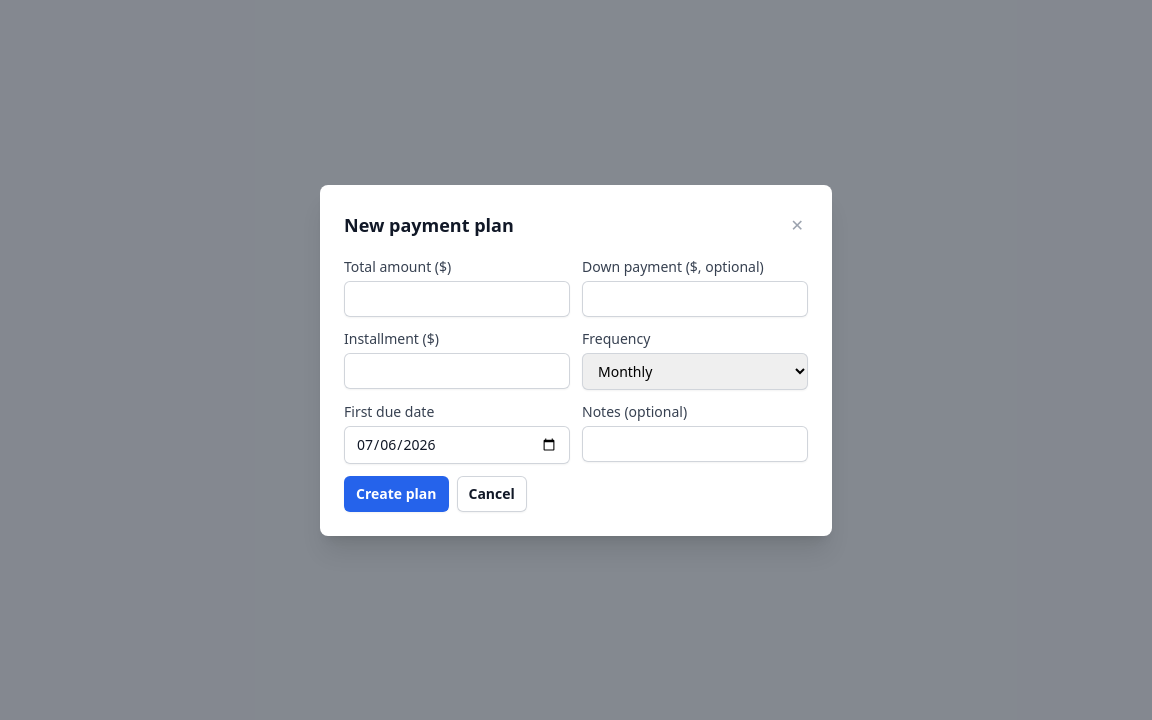
Test: PaymentPlanModal › shows a computed installment-count preview as amounts are entered
This screenshot has width=1152, height=720.
Type "1200" into the number field labelled "Total amount ($)" at (457, 298), box [344,280,570,316]
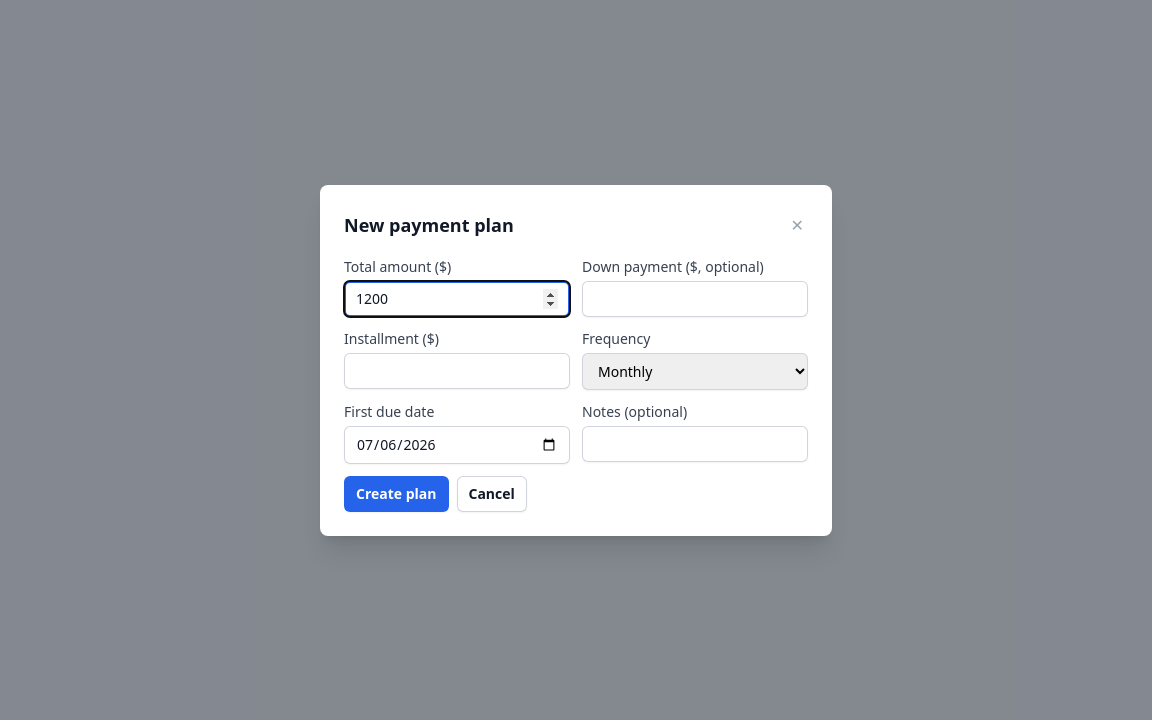
Type "200" into the number field labelled "Down payment ($, optional)" at (695, 298), box [582,280,808,316]
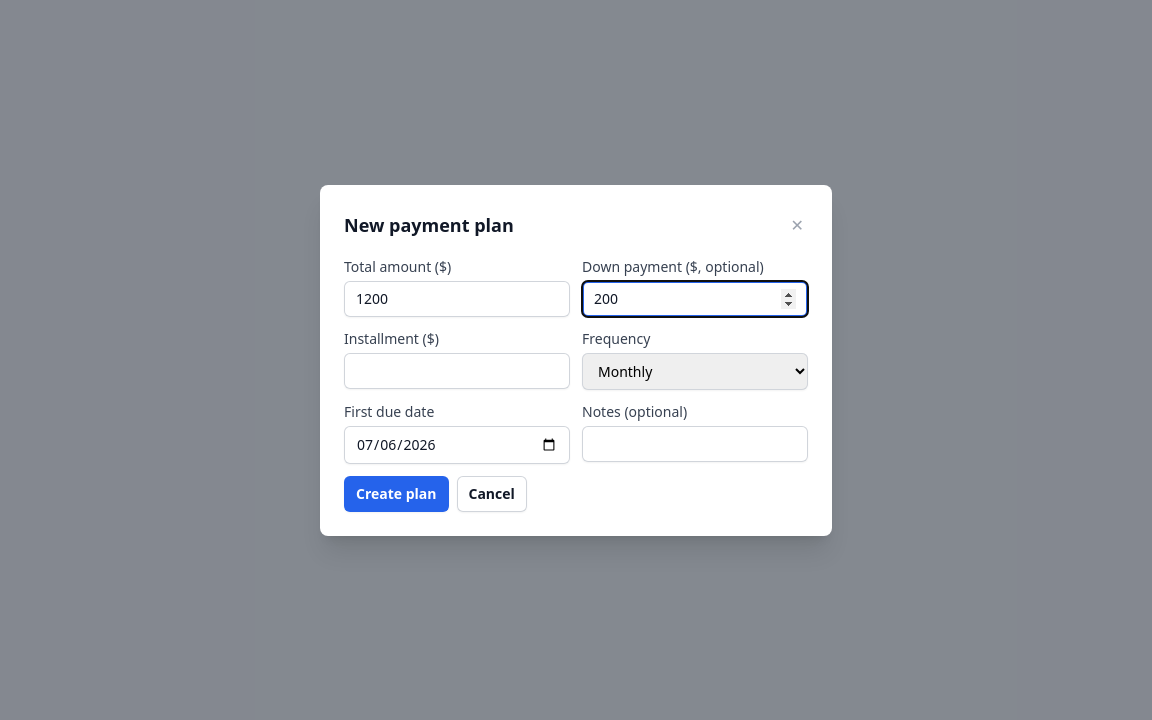
Type "100" into the number field labelled "Installment ($)" at (457, 370), box [344,352,570,388]
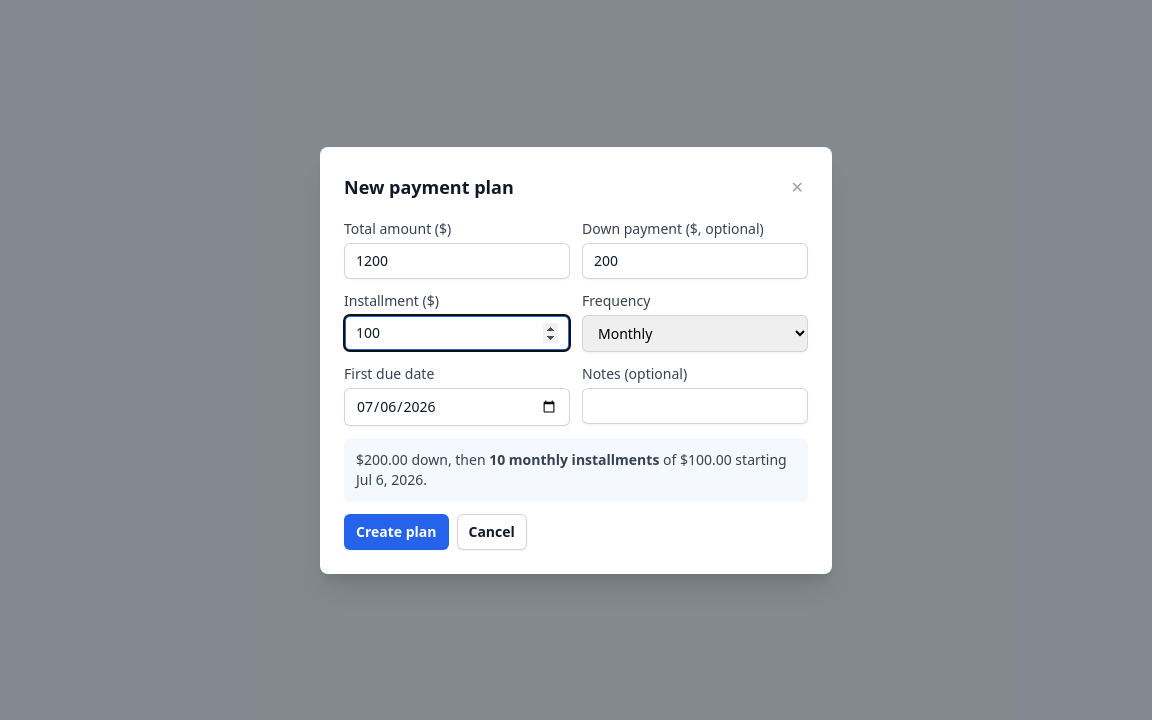
Now the element with test id "installment-preview" shows "10 monthly installments", box [489,450,659,468]
Now the element with test id "installment-preview" shows "$100.00", box [659,450,732,468]
Note: Uneven split surfaces the smaller final payment.
Clear the number field labelled "Installment ($)" at (457, 332), box [344,314,570,350]
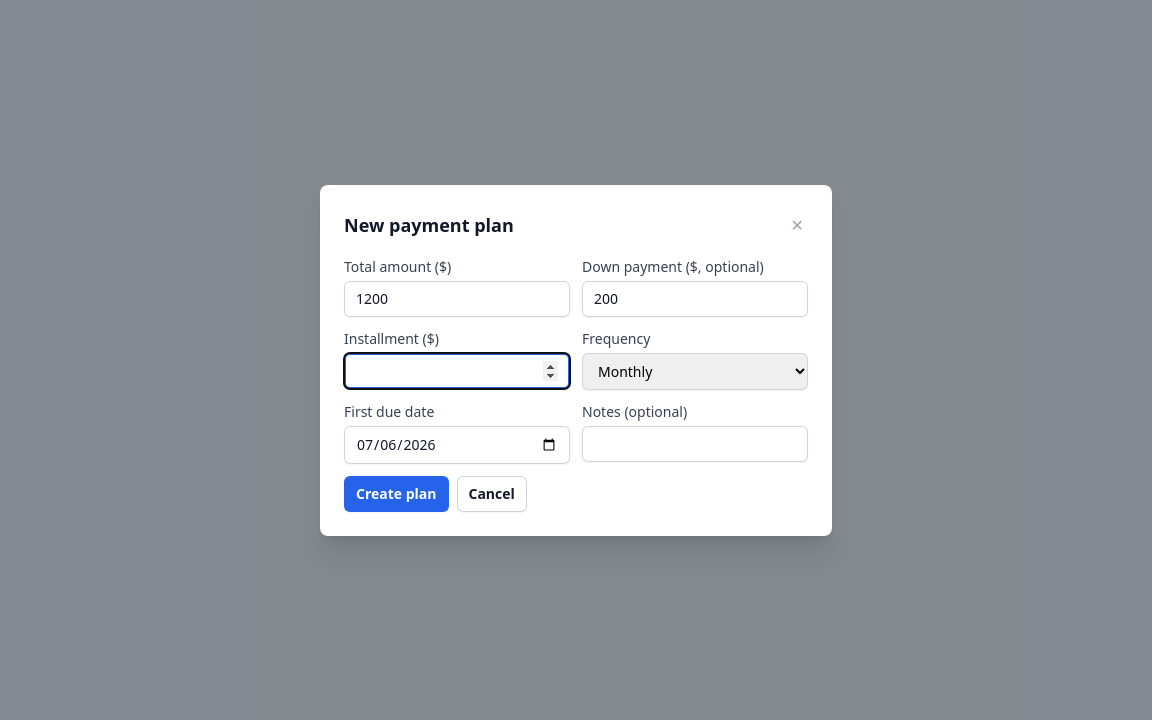
Type "300" into the number field labelled "Installment ($)" at (457, 370), box [344,352,570,388]
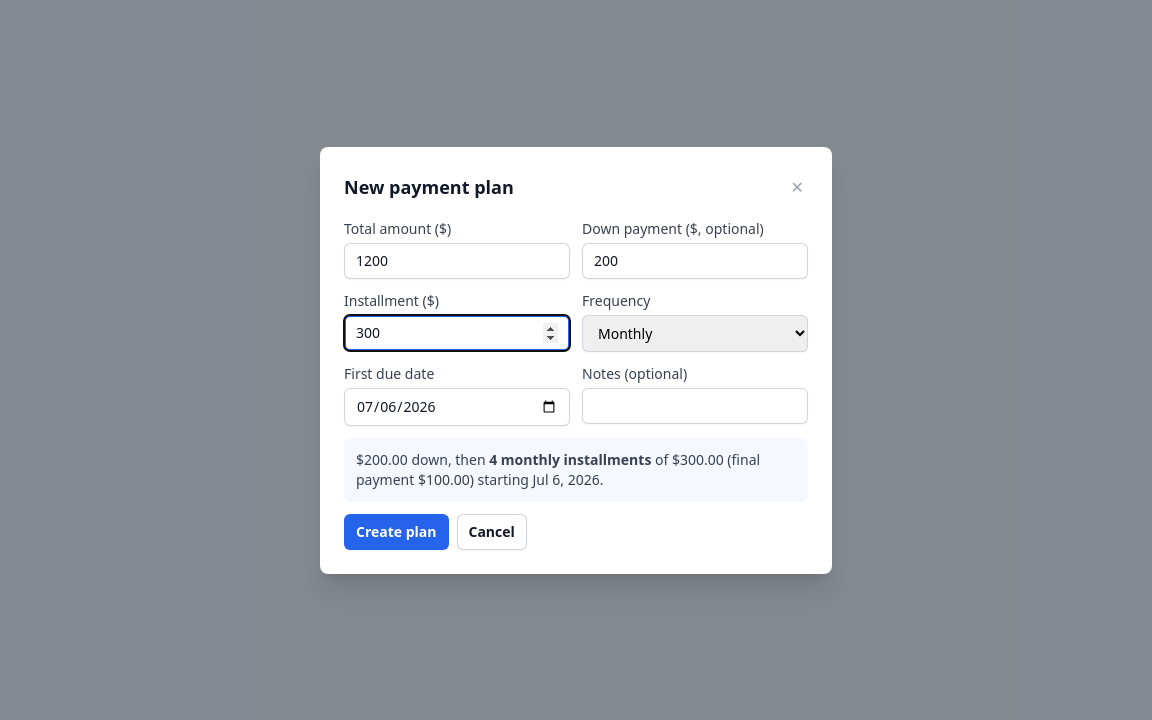
Now the element with test id "installment-preview" shows "4 monthly installments", box [489,450,651,468]
Now the element with test id "installment-preview" shows "final payment $100.00", box [356,450,760,488]
